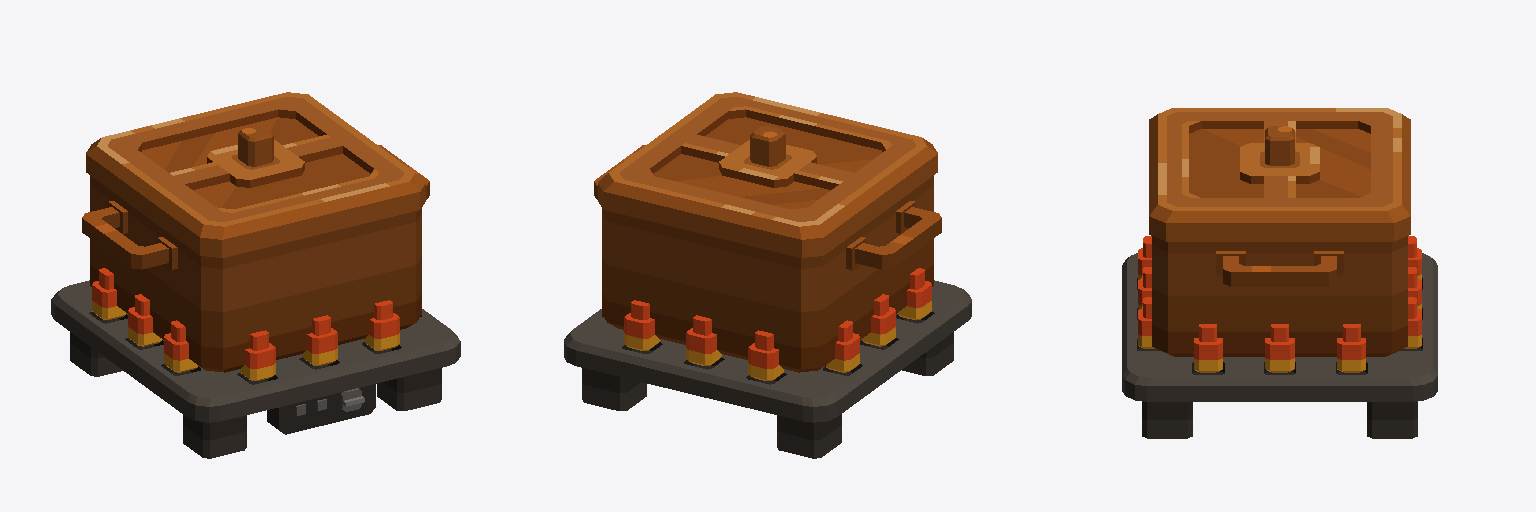
The picture shows the model from 3 angles: view 1: azimuth 30°, elevation 25°; view 2: azimuth 150°, elevation 25°; view 3: azimuth 270°, elevation 25°; orthographic projection.
Parts seen in each view (by area): view 1: cauldron_bronze_lid, cauldron_bronze_pot, cauldron_base, cauldron_flame; view 2: cauldron_bronze_lid, cauldron_bronze_pot, cauldron_base, cauldron_flame; view 3: cauldron_bronze_lid, cauldron_bronze_pot, cauldron_base, cauldron_flame.
Boxes of the visible parts, x1=… form: cauldron_bronze_lid: x1=86, y1=92, x2=425, y2=257; cauldron_bronze_pot: x1=82, y1=145, x2=429, y2=372; cauldron_base: x1=51, y1=280, x2=460, y2=458; cauldron_flame: x1=92, y1=268, x2=399, y2=380; cauldron_bronze_lid: x1=598, y1=92, x2=937, y2=257; cauldron_bronze_pot: x1=594, y1=145, x2=941, y2=372; cauldron_base: x1=564, y1=280, x2=971, y2=458; cauldron_flame: x1=624, y1=268, x2=931, y2=380; cauldron_bronze_lid: x1=1149, y1=108, x2=1410, y2=241; cauldron_bronze_pot: x1=1152, y1=236, x2=1407, y2=356; cauldron_base: x1=1122, y1=253, x2=1437, y2=438; cauldron_flame: x1=1138, y1=236, x2=1421, y2=372.
Size of the model in its own units: 5.41 by 4.3 by 4.94.
3 materials, 3 textured.